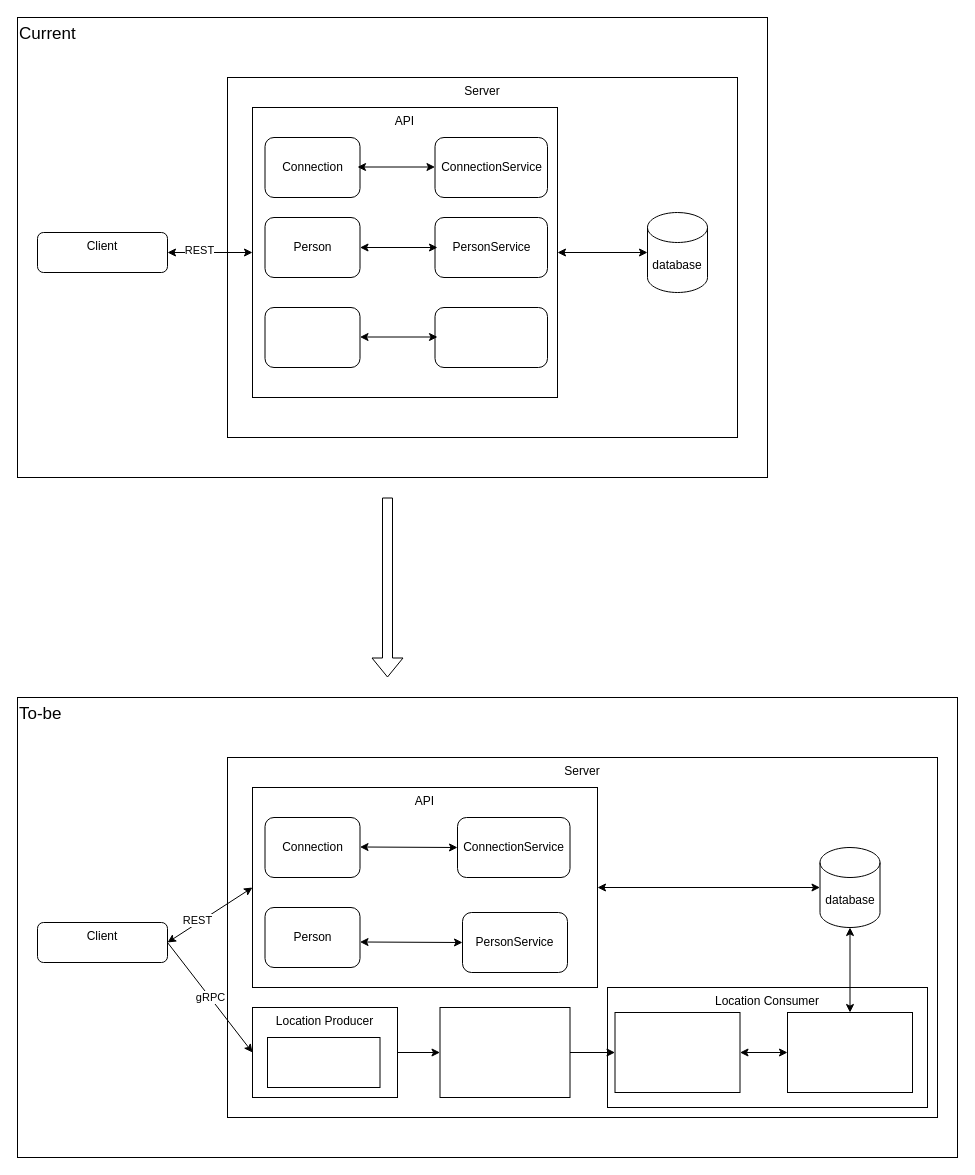
This 975x1175 diagram has some shape labels left out. Here are the shapes that lost their labels. From the top down, the centre of each, then its label:
point (312, 337): Location
point (491, 337): LocationService
point (323, 1062): Message Producer
point (504, 1052): Kafka
point (677, 1052): Message Consumer
point (849, 1052): Location Service
